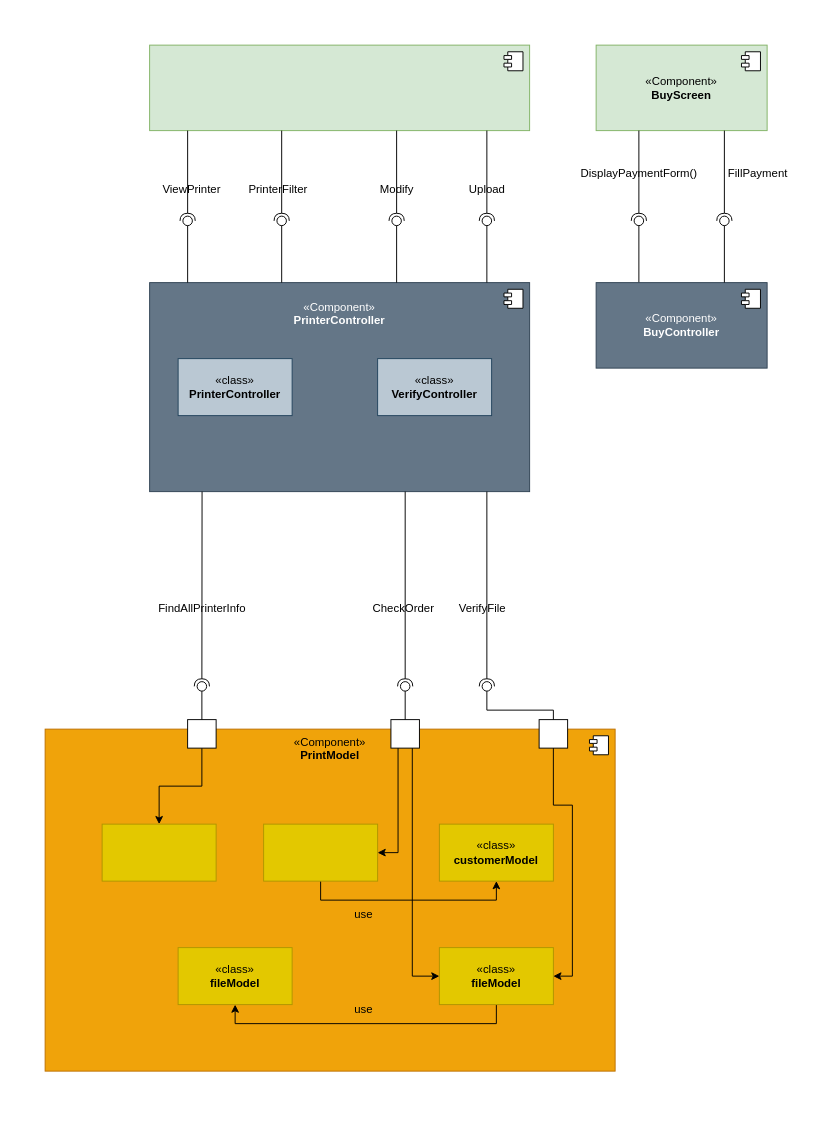
The diagram is 831 pixels wide and 1126 high, and some of its shapes have lost their labels. Here are the shapes that lost their labels. From the top down, the centre of each, then its label:
(339,87): «Component» printView
(158,852): «class» PrinterModel
(320,852): «class» PrinterLog
